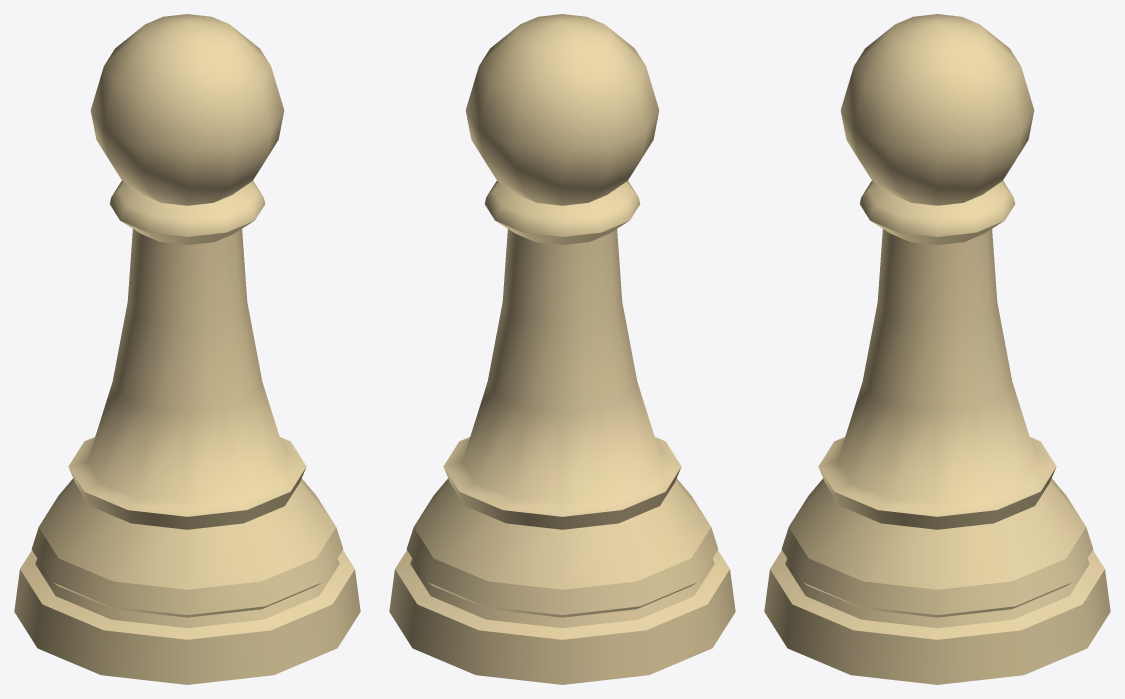
The model's file is Pawn.fbx.
3 views of the same model, side by side, from view 1: azimuth 30°, elevation 25°; view 2: azimuth 150°, elevation 25°; view 3: azimuth 270°, elevation 25° (orthographic).
Visible parts, largest first — view 1: Line001; view 2: Line001; view 3: Line001.
Boxes of the visible parts, left/top/right/bottom form: Line001: left=14, top=14, right=360, bottom=684; Line001: left=389, top=14, right=735, bottom=684; Line001: left=764, top=14, right=1110, bottom=684.
Size of the model in its own units: 20.41 by 38.31 by 20.41.
1 material, 1 textured.
